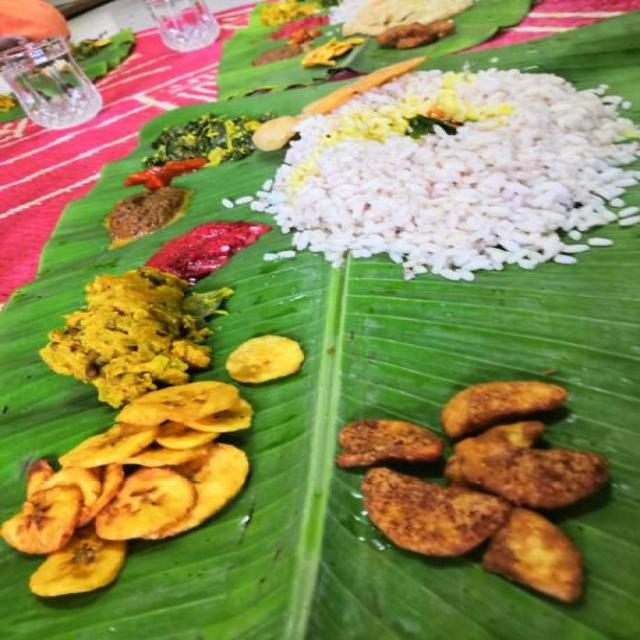BANANA CHIPS: (10, 330, 336, 598), (331, 379, 611, 603)
GREEN CHUTNEY: (84, 182, 212, 252)
PICKLE: (106, 153, 229, 193)
RED CHUTNEY: (125, 212, 279, 281)
RICE: (257, 74, 634, 278)
VEGGIES: (31, 270, 231, 420), (132, 110, 282, 156)
